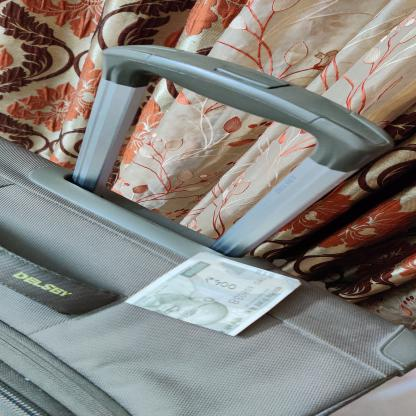New500Front: (125, 251, 302, 336)
